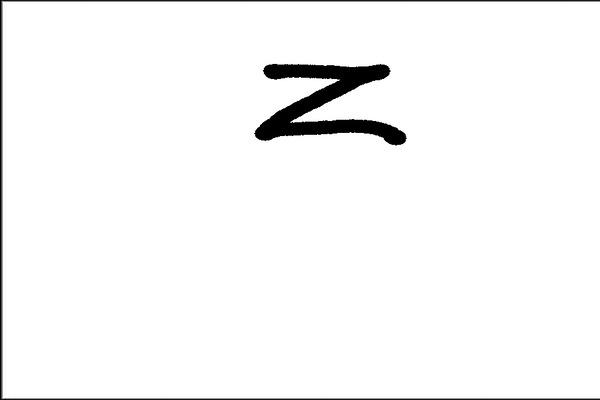Z: (249, 56, 422, 152)
